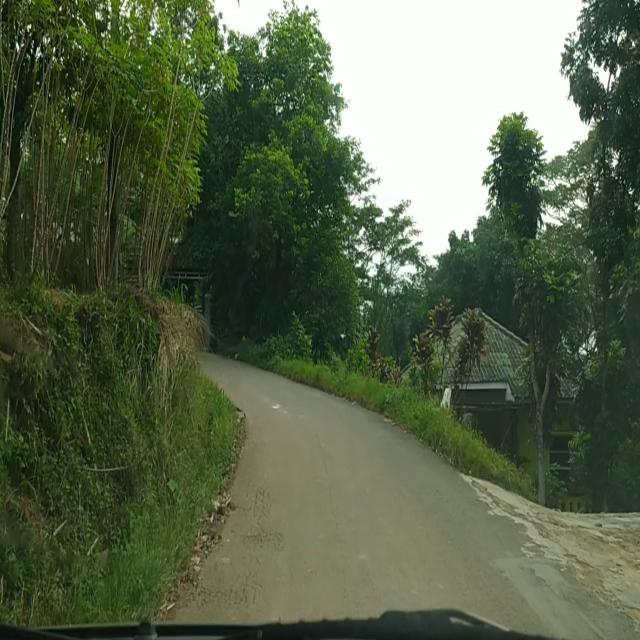Drain Hole: (200, 483, 280, 602)
